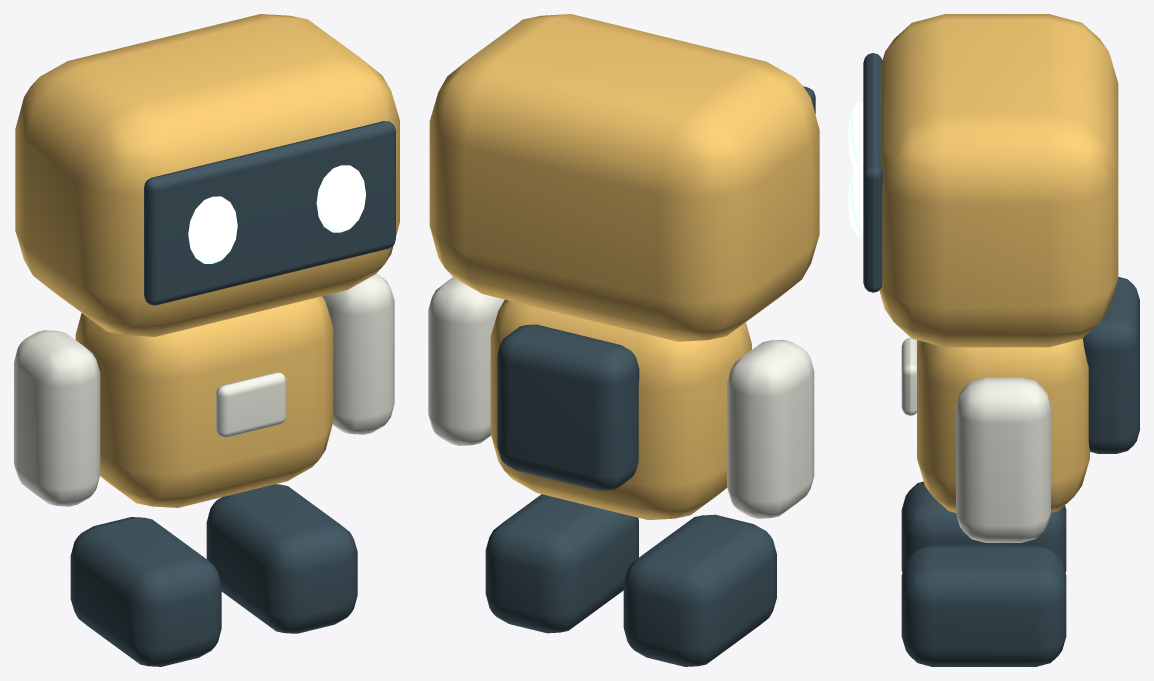
Rendered from pip.glb.
3 renders of one model, left to right at view 1: azimuth 30°, elevation 25°; view 2: azimuth 150°, elevation 25°; view 3: azimuth 270°, elevation 25°, orthographic. The views are drawn at different scales.
Parts seen in each view (by area): view 1: Head, Torso, Face, FootL, FootR, ArmL, ArmR, Badge, Eye.001, Eye; view 2: Head, Torso, BackBattery, FootL, FootR, ArmL, ArmR; view 3: Head, FootR, Torso, ArmR, BackBattery, Face, FootL, Badge, Eye.001, Eye.
Boxes of the visible parts, box(x1,y1,x2,y2) form: Head: box(15, 14, 399, 336); Torso: box(75, 296, 333, 507); Face: box(144, 121, 395, 305); FootL: box(70, 517, 221, 666); FootR: box(206, 484, 357, 633); ArmL: box(14, 330, 100, 506); ArmR: box(322, 273, 394, 434); Badge: box(216, 372, 286, 437); Eye.001: box(316, 165, 365, 232); Eye: box(188, 196, 237, 263); Head: box(429, 14, 819, 341); Torso: box(490, 299, 751, 520); BackBattery: box(497, 324, 639, 490); FootL: box(623, 514, 776, 666); FootR: box(485, 494, 638, 633); ArmL: box(727, 339, 814, 518); ArmR: box(428, 277, 504, 445); Head: box(879, 14, 1118, 347); FootR: box(901, 545, 1066, 666); Torso: box(917, 338, 1089, 512); ArmR: box(956, 377, 1050, 542); BackBattery: box(1082, 277, 1139, 453); Face: box(863, 53, 882, 292); FootL: box(901, 481, 1066, 572); Badge: box(901, 338, 916, 415); Eye.001: box(848, 164, 863, 235); Eye: box(848, 102, 863, 168).
Size of the model in its own units: 0.94 by 1.42 by 0.674.
